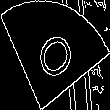O_SW: (30, 23, 80, 87)
